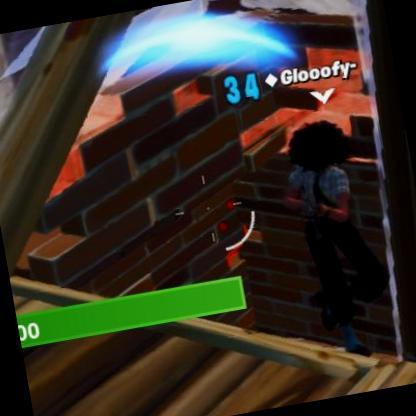person: (267, 110, 402, 374)
